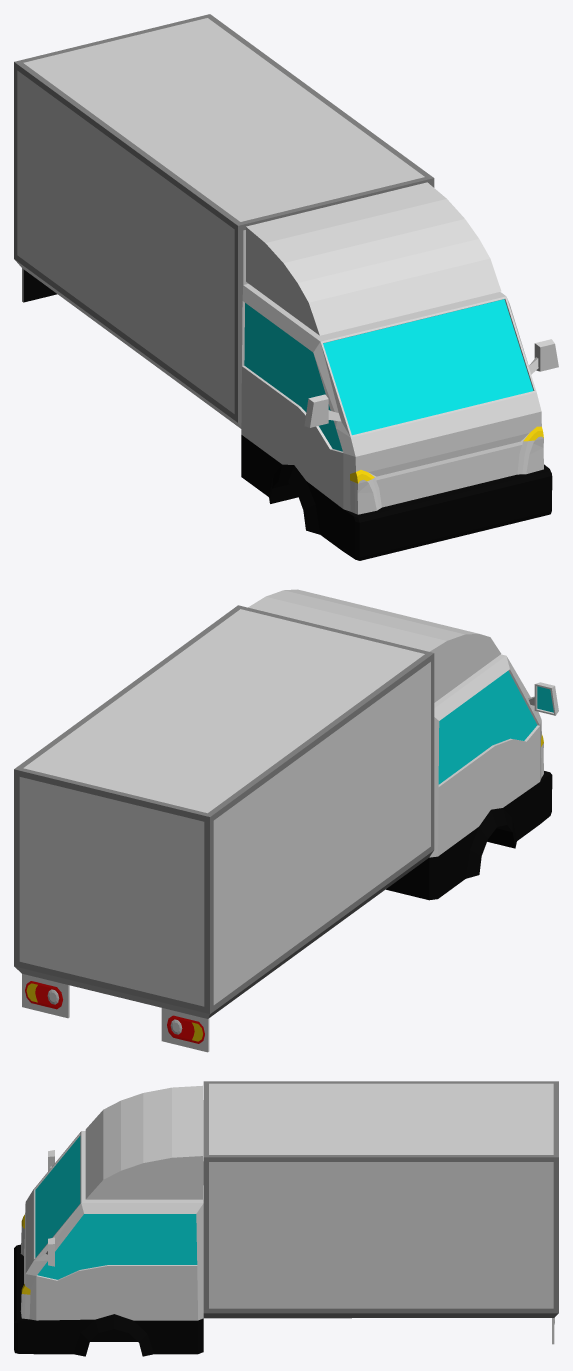
The model's file is Porter_container.fbx.
3 renders of one model, top to bottom at view 1: azimuth 30°, elevation 25°; view 2: azimuth 150°, elevation 25°; view 3: azimuth 270°, elevation 25°, orthographic. The views are drawn at different scales.
Visible parts, largest first — view 1: Plane; view 2: Plane; view 3: Plane.
Part boxes in pixels (bbox=[...]): Plane: bbox=[14, 14, 558, 560]; Plane: bbox=[14, 589, 558, 1052]; Plane: bbox=[14, 1081, 558, 1356].
Bounding box in the file's own units: 216 × 205 × 513.
